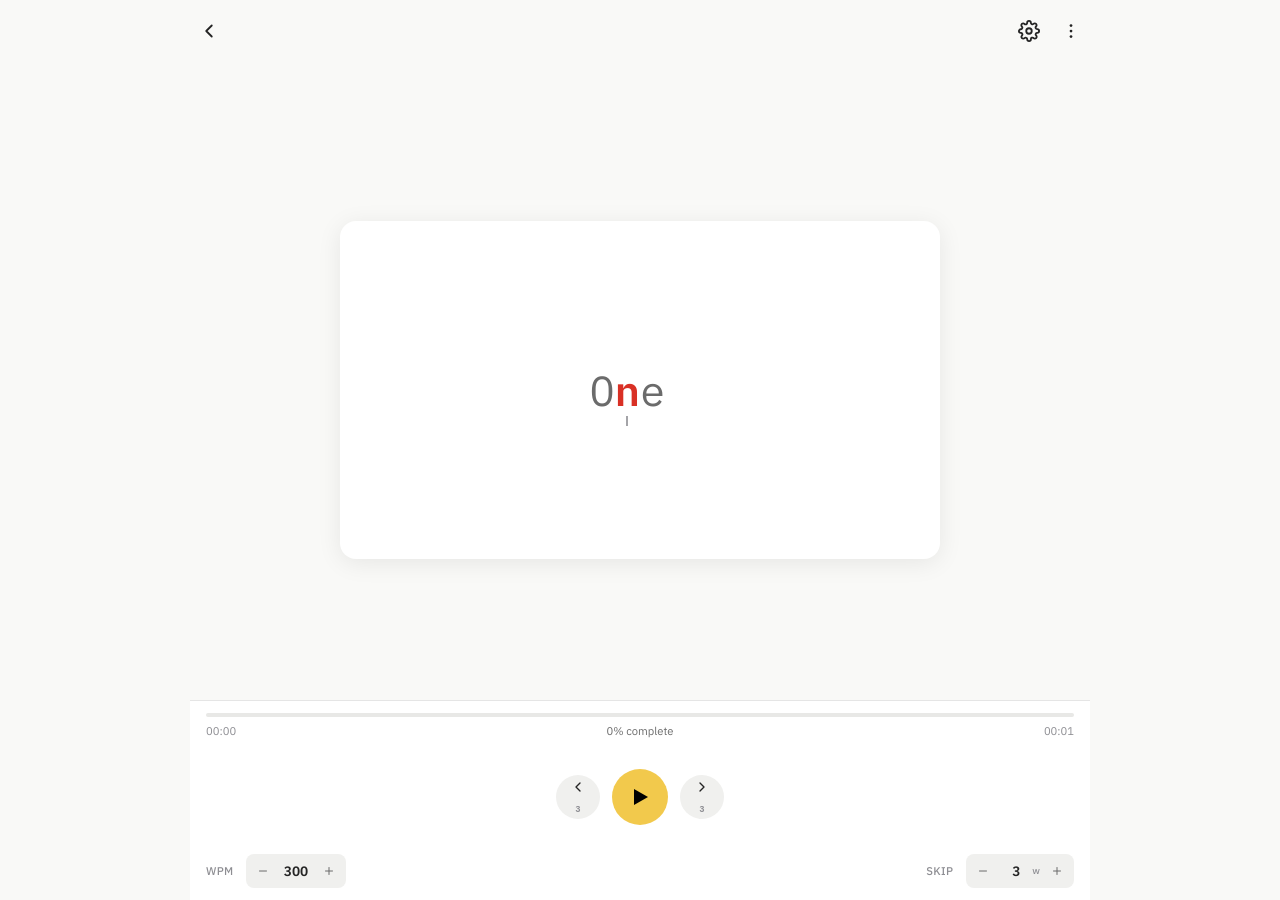
Test: RSVPPlayer › word navigation › skips multiple words based on skip amount
Expected: the element named "Current word: One" is shown, [363,368,917,412]
Click the button named "Skip forward" at coordinates (702, 797), box [680,775,724,819]
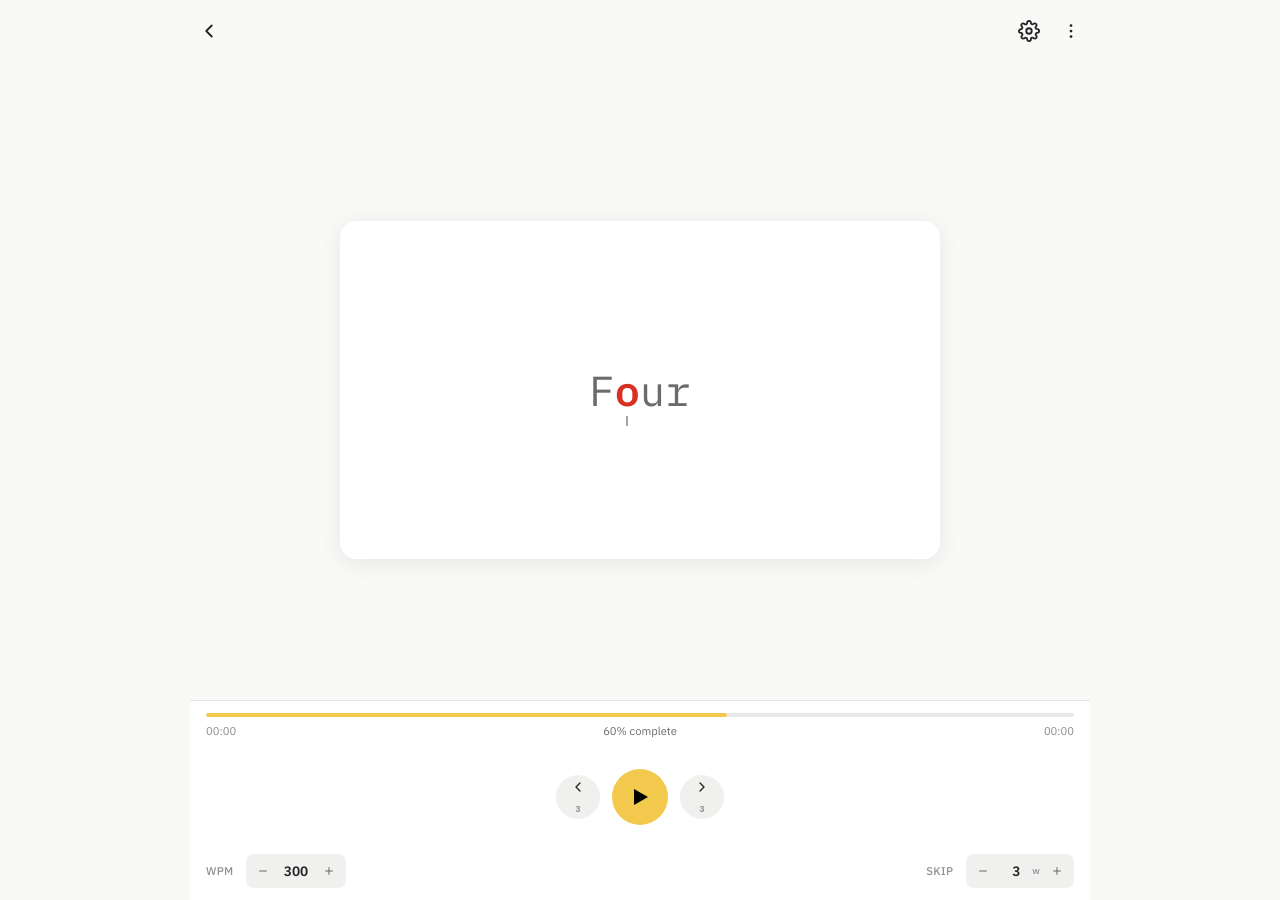
Result: the element named "Current word: Four" is shown at [363,368,917,412]
